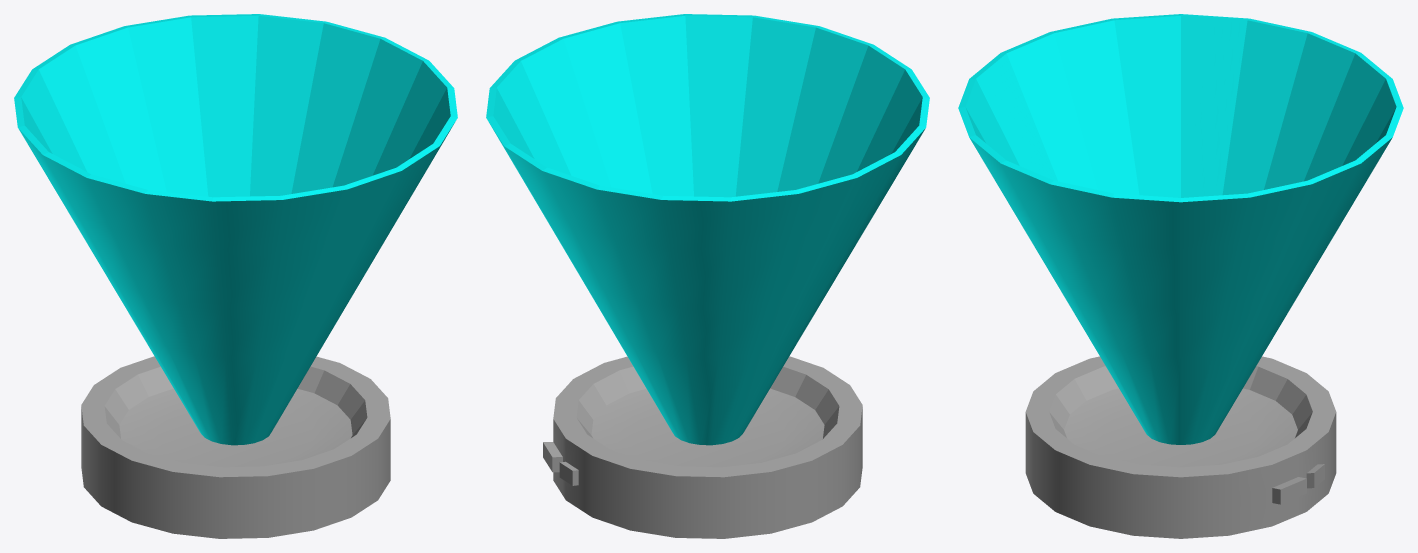
File: Hollogram.fbx
3 renders of one model, left to right at view 1: azimuth 30°, elevation 25°; view 2: azimuth 150°, elevation 25°; view 3: azimuth 270°, elevation 25°, orthographic.
Visible parts, largest first — view 1: pCylinder2, pCylinder1; view 2: pCylinder2, pCylinder1; view 3: pCylinder2, pCylinder1.
Part boxes in pixels (x1,y1,x2,y2): pCylinder2: [14, 14, 457, 445]; pCylinder1: [81, 356, 390, 538]; pCylinder2: [486, 14, 929, 445]; pCylinder1: [543, 356, 862, 538]; pCylinder2: [958, 14, 1403, 444]; pCylinder1: [1025, 356, 1336, 538].
Size of the model in its own units: 2.87 by 2.6 by 2.87.
